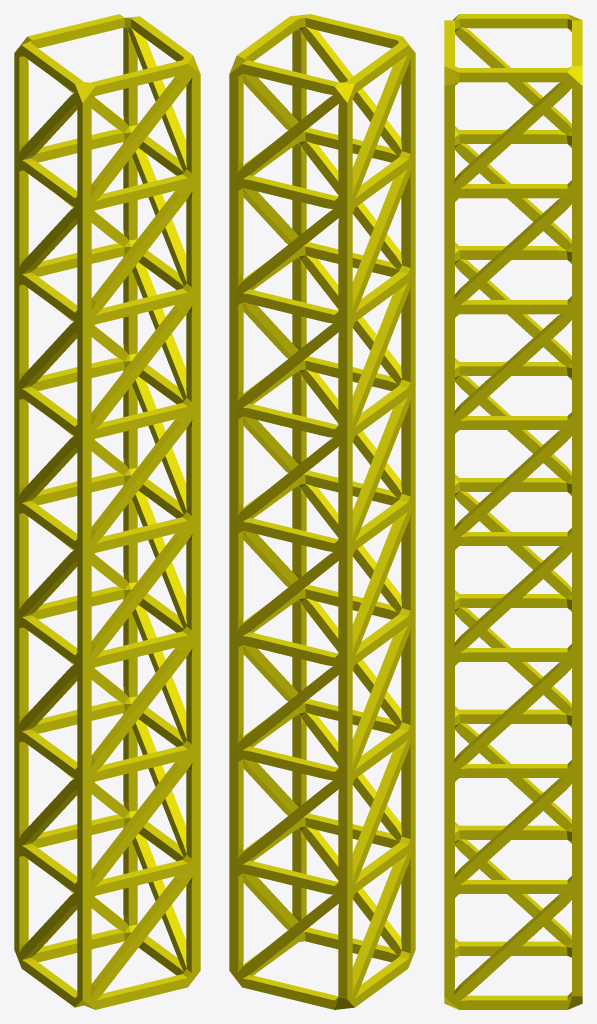
The model's file is crane_tower.glb.
The picture shows the model from 3 angles, left to right: view 1: azimuth 30°, elevation 25°; view 2: azimuth 150°, elevation 25°; view 3: azimuth 270°, elevation 25°; orthographic projection.
Parts seen in each view (by area): view 1: CraneTower-col; view 2: CraneTower-col; view 3: CraneTower-col.
Part boxes in pixels (bbox=[...]): CraneTower-col: bbox=[14, 14, 200, 1009]; CraneTower-col: bbox=[229, 14, 415, 1009]; CraneTower-col: bbox=[444, 14, 582, 1009].
Bounding box in the file's own units: 6.5 × 48.5 × 6.5.
